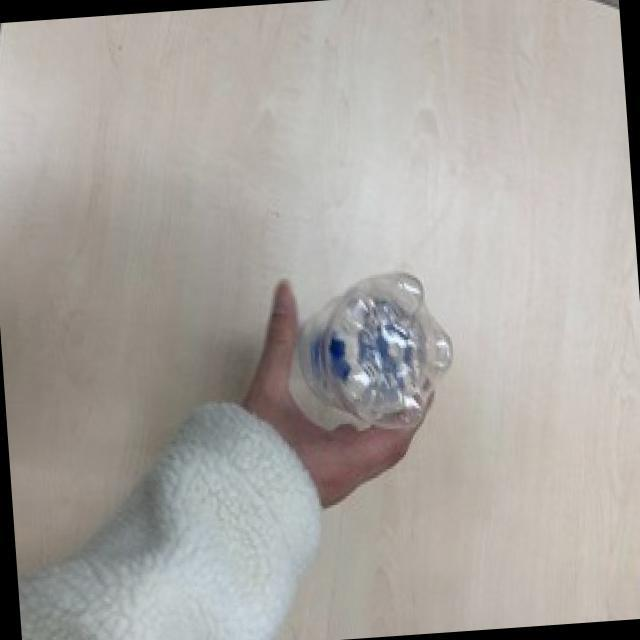good: (276, 264, 467, 438)
